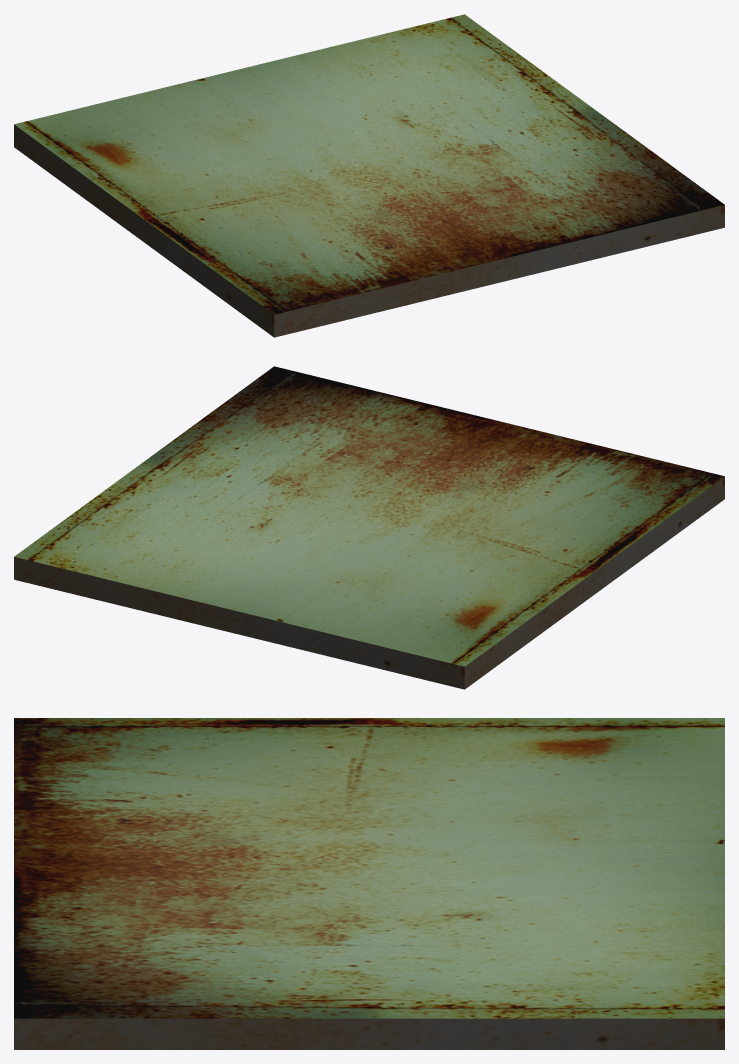
Rendered from Hatch.fbx.
3 renders of one model, top to bottom at view 1: azimuth 30°, elevation 25°; view 2: azimuth 150°, elevation 25°; view 3: azimuth 270°, elevation 25°, orthographic. The views are drawn at different scales.
Parts seen in each view (by area): view 1: hatch; view 2: hatch; view 3: hatch.
Boxes of the visible parts, x1=… form: hatch: x1=14, y1=14, x2=724, y2=337; hatch: x1=14, y1=366, x2=724, y2=689; hatch: x1=14, y1=718, x2=724, y2=1049.
Bounding box in the file's own units: 120 × 5.83 × 120.
